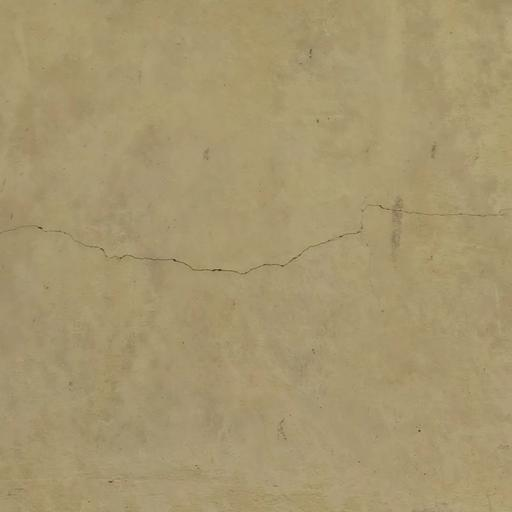minor_crack: (0, 189, 512, 276)
